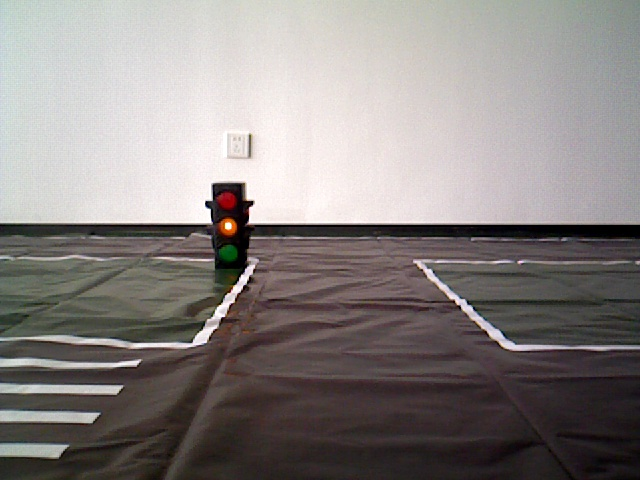yellow: (206, 181, 253, 275)
